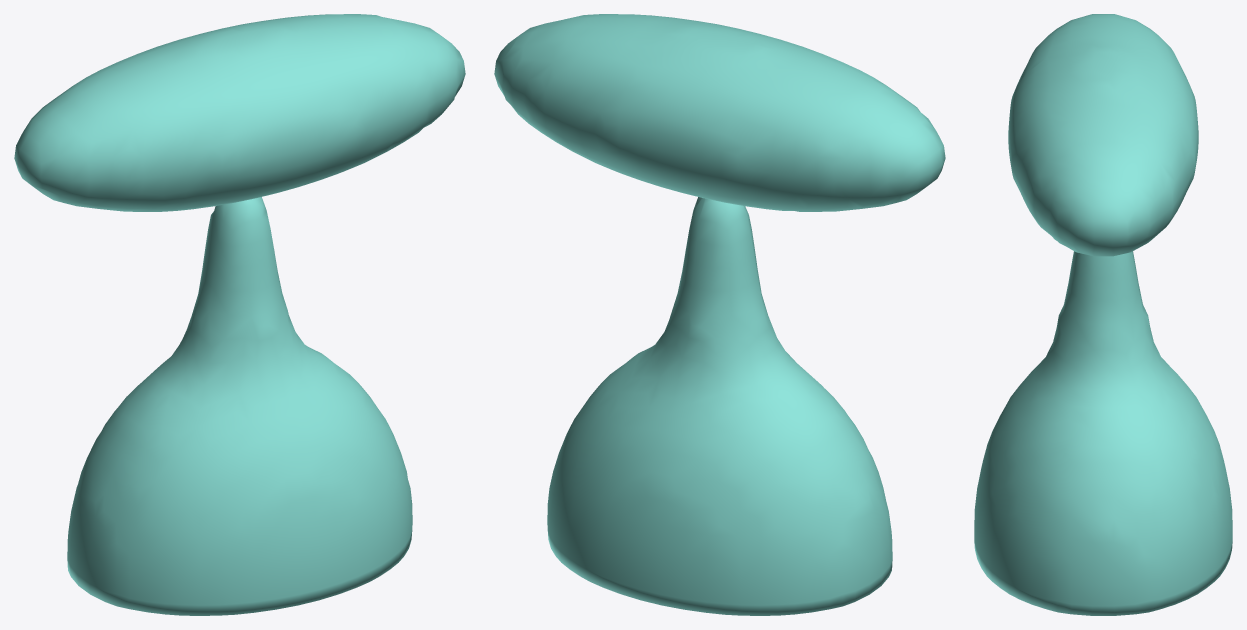
The model's file is head_hammer.glb.
The picture shows the model from 3 angles, left to right: view 1: azimuth 30°, elevation 25°; view 2: azimuth 150°, elevation 25°; view 3: azimuth 270°, elevation 25°; orthographic projection. The views are drawn at different scales.
Visible parts, largest first — view 1: HammerBody, HammerHead; view 2: HammerBody, HammerHead; view 3: HammerBody, HammerHead.
Part boxes in pixels (left/top/right/bottom): HammerBody: left=67, top=197, right=412, bottom=615; HammerHead: left=14, top=14, right=465, bottom=211; HammerBody: left=547, top=197, right=892, bottom=615; HammerHead: left=494, top=14, right=945, bottom=211; HammerBody: left=974, top=251, right=1232, bottom=615; HammerHead: left=1008, top=14, right=1198, bottom=256.
Size of the model in its own units: 0.5734 by 0.6482 by 0.3168.
